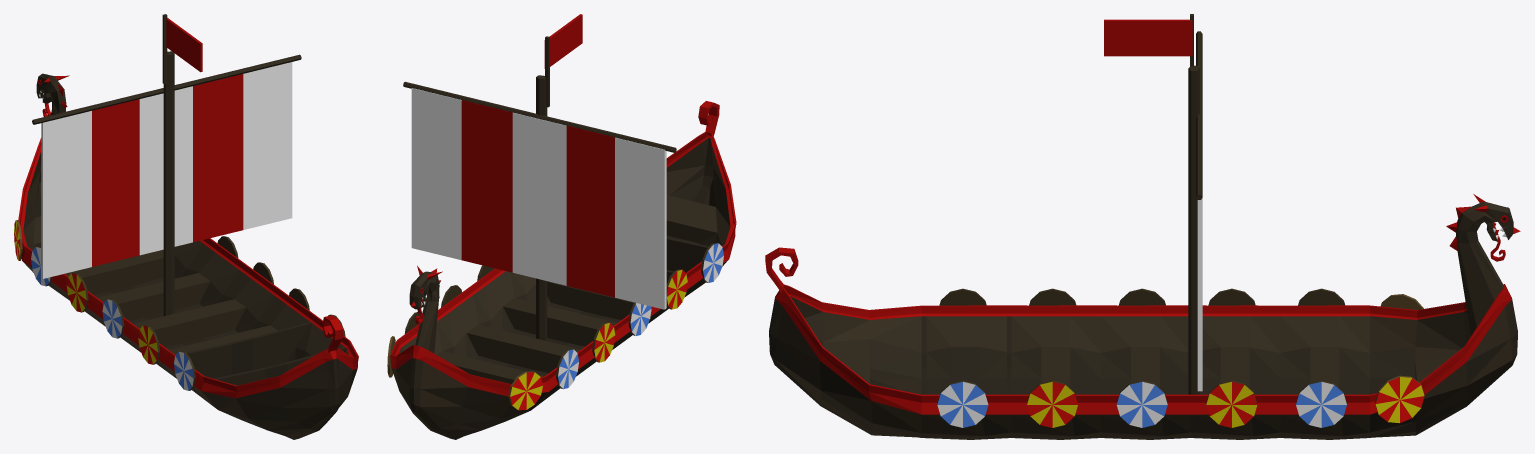
The model's file is Ship_05.fbx.
The picture shows the model from 3 angles, left to right: view 1: azimuth 30°, elevation 25°; view 2: azimuth 150°, elevation 25°; view 3: azimuth 270°, elevation 25°; orthographic projection. The views are drawn at different scales.
Visible parts, largest first — view 1: Sail, Boat_Outer_05, Boat_Inner_05, Flag; view 2: Sail, Boat_Outer_05, Boat_Inner_05, Flag; view 3: Boat_Outer_05, Boat_Inner_05, Flag, Sail.
Part boxes in pixels (<box>): Sail: <box>41,62,292,278</box>; Boat_Outer_05: <box>14,14,358,439</box>; Boat_Inner_05: <box>20,144,353,385</box>; Flag: <box>166,18,202,72</box>; Sail: <box>411,88,666,309</box>; Boat_Outer_05: <box>387,36,736,439</box>; Boat_Inner_05: <box>394,136,733,384</box>; Flag: <box>544,14,582,68</box>; Boat_Outer_05: <box>765,14,1520,439</box>; Boat_Inner_05: <box>788,294,1470,394</box>; Flag: <box>1104,19,1192,56</box>; Sail: <box>1197,198,1202,391</box>.
Bounding box in the file's own units: 1640 × 1961 × 3202.
